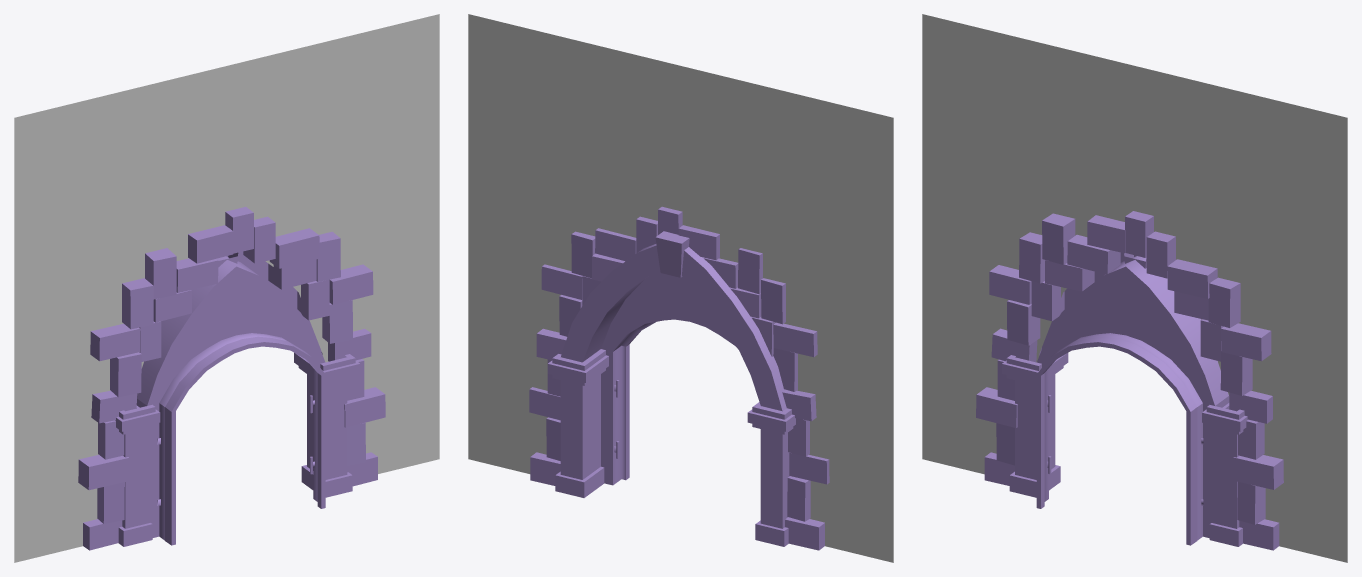
The model's file is gate_a_inside.fbx.
3 views of the same model, side by side, from view 1: azimuth 30°, elevation 25°; view 2: azimuth 150°, elevation 25°; view 3: azimuth 330°, elevation 25° (orthographic).
Parts seen in each view (by area): view 1: Plane.020; view 2: Plane.020; view 3: Plane.020.
Part boxes in pixels (x1=…): Plane.020: x1=14, y1=14, x2=439, y2=562; Plane.020: x1=468, y1=14, x2=893, y2=562; Plane.020: x1=922, y1=14, x2=1347, y2=562.
Size of the model in its own units: 10 by 10 by 1.45.
